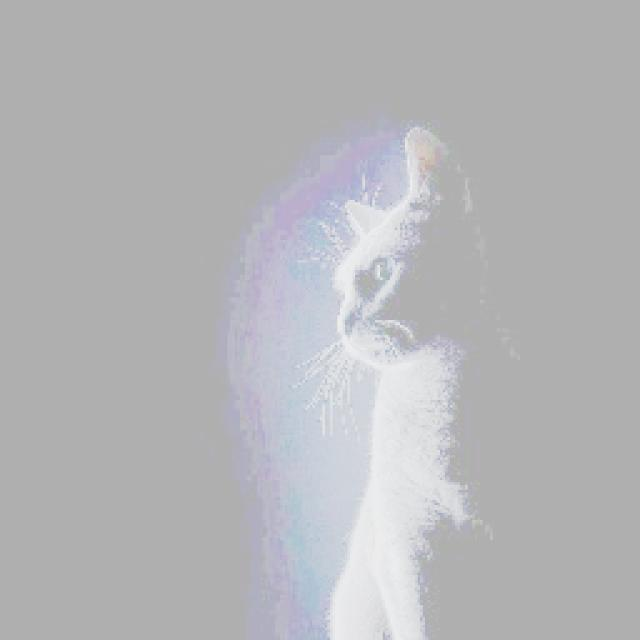cat: (298, 111, 568, 640)
